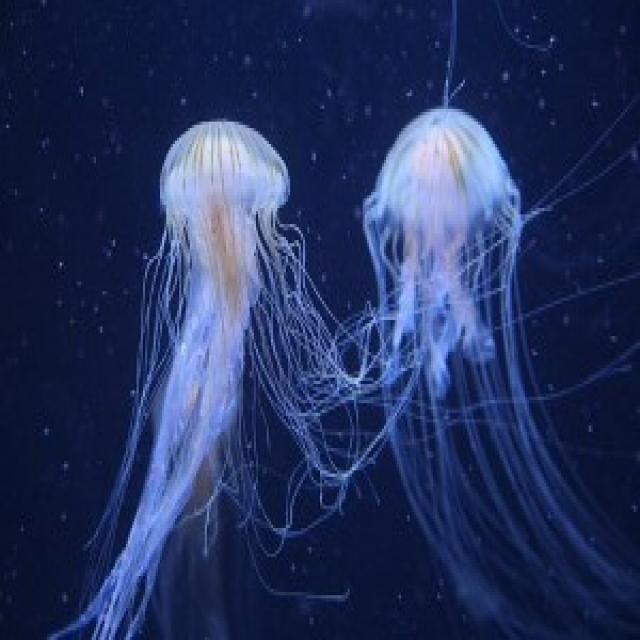Jellyfish: (358, 104, 575, 640), (129, 111, 318, 640)
